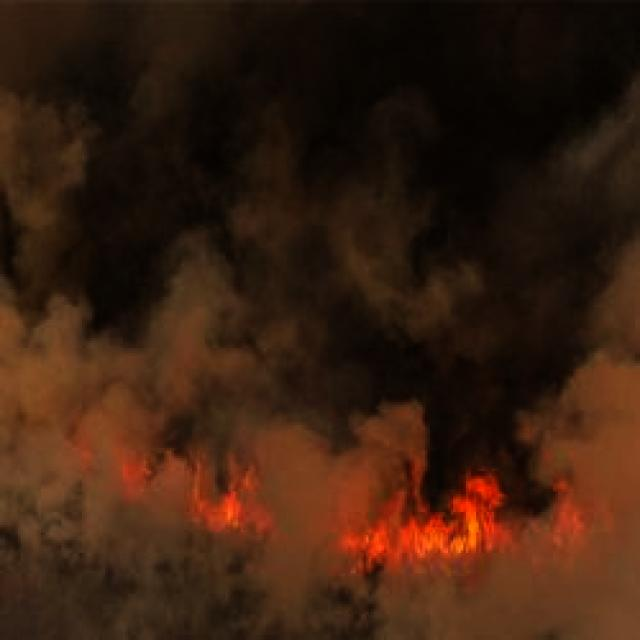Fire: (360, 482, 526, 582), (191, 457, 287, 566), (116, 445, 168, 488), (553, 487, 574, 533)
Smoke: (0, 0, 640, 640)
